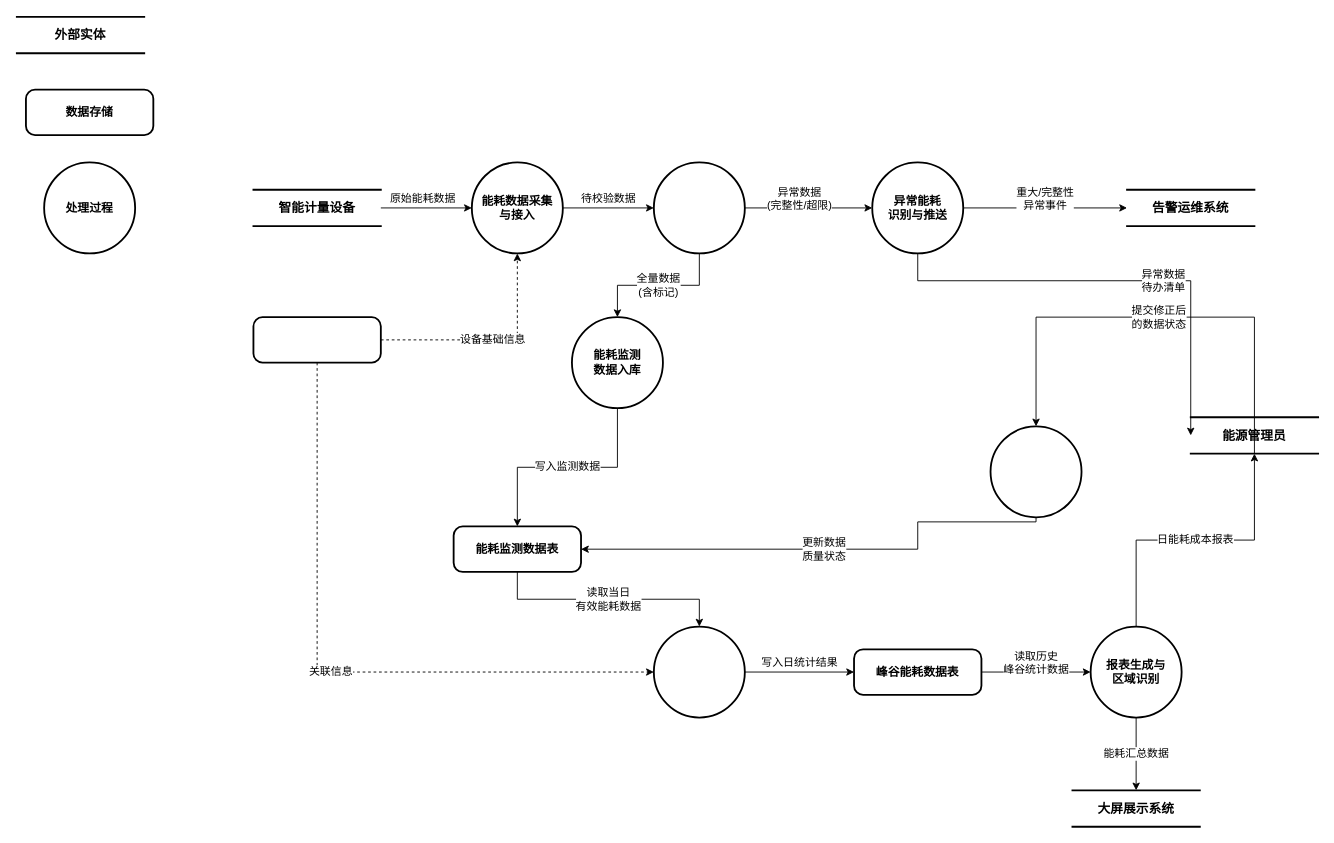
This 1334x843 diagram has some shape labels left out. Here are the shapes that lost their labels. From the top down, the box of each, then its label:
(652, 161, 745, 254): 数据清洗与 质量校验
(252, 316, 381, 363): 计量设备信息表
(989, 425, 1082, 518): 异常数据 复核与修正
(652, 625, 745, 718): 峰谷分时统计 与成本计算
